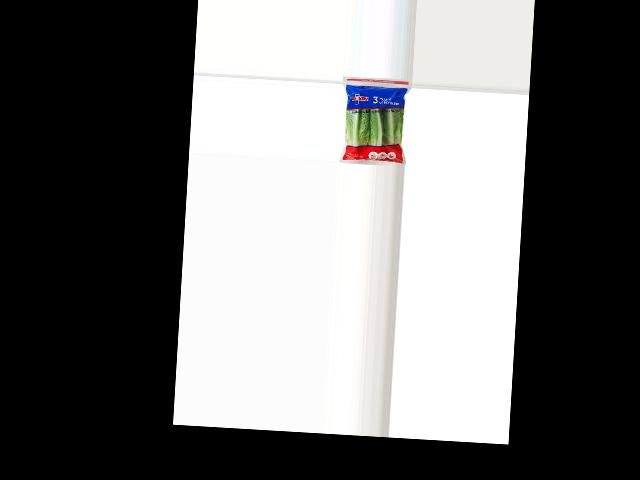lettuce: (340, 82, 408, 166)
